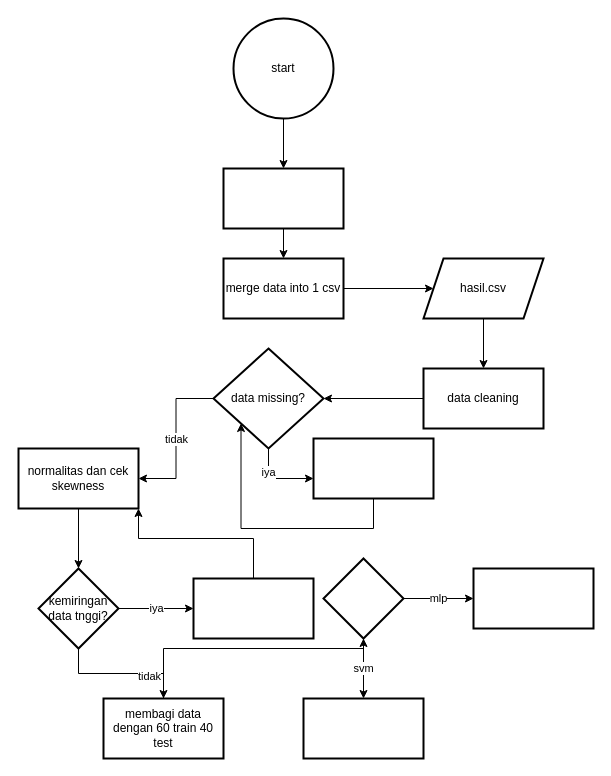
Some shapes in this 611 by 776 pixel diagram are drawn without their labels. Here are the shapes that lost their labels. From the top down, the centre of each, then its label:
point (283, 198): read csv
point (373, 468): insert data dengan mean
point (253, 608): menurunkan angka skewness hingga diantara -2 sampai 2
point (363, 598): algoritma yang dipakai
